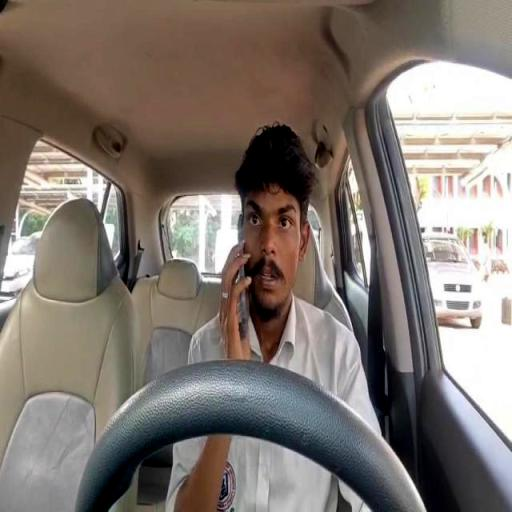Talking_on_phone: (215, 124, 314, 357)
